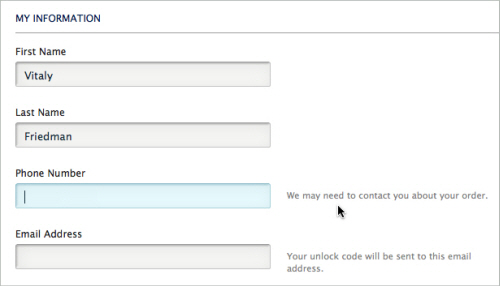field: (13, 240, 271, 271), (13, 120, 273, 149), (13, 181, 272, 209), (14, 60, 272, 88)
